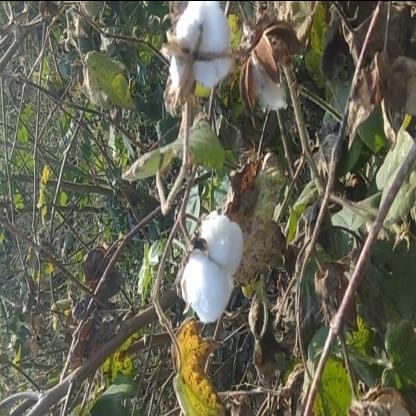cotton_ready: (160, 190, 264, 334)
